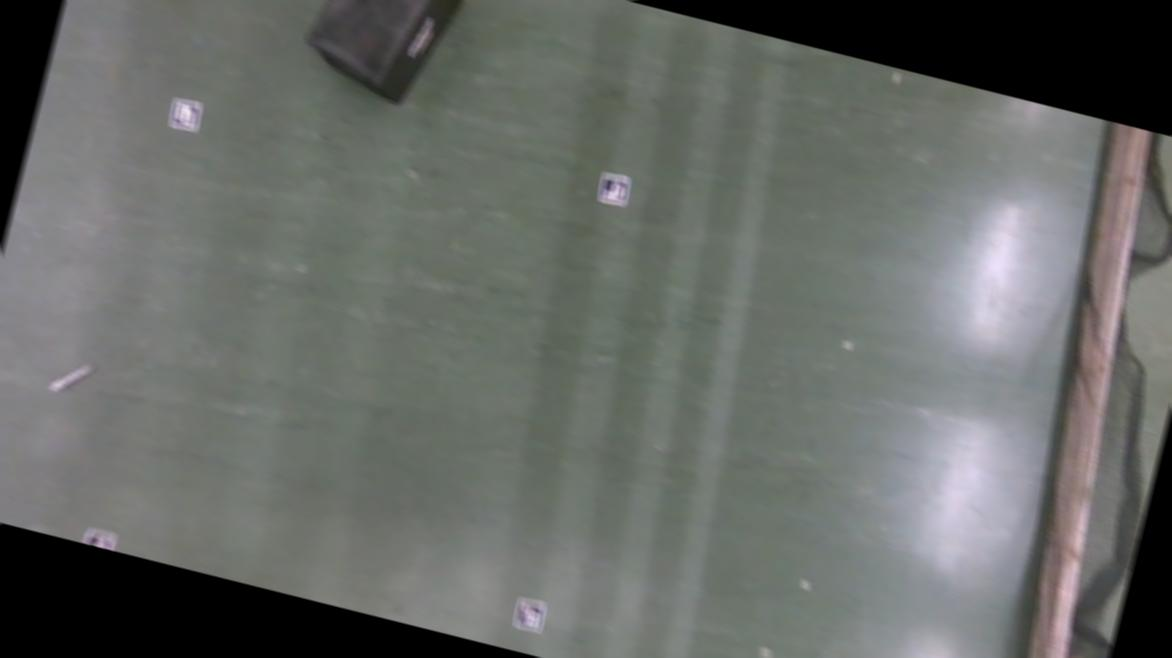probes: (48, 354, 94, 399)
rako: (292, 0, 474, 116)
